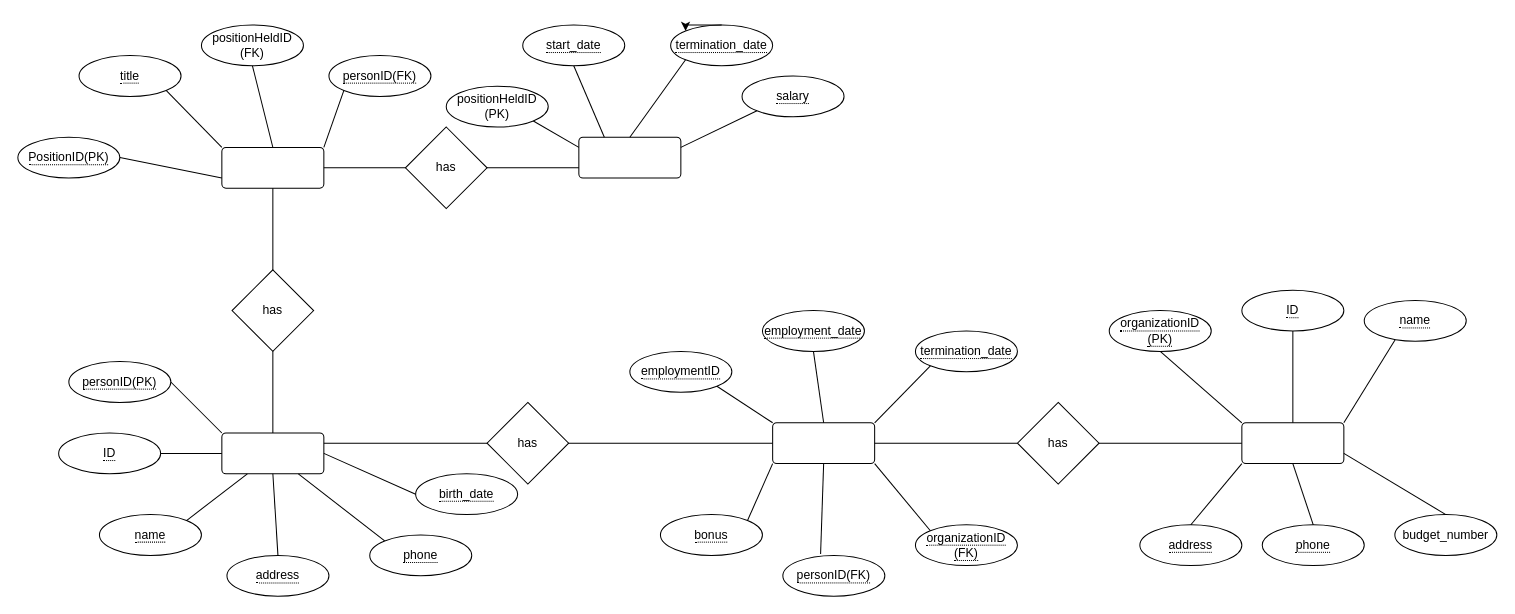
The diagram is 1515 pixels wide and 614 high, and some of its shapes have lost their labels. The shapes that lost their labels are listed below. From the top down, each one's centre as x and y in pixels, then its label:
At pixel 272 167: "Position".
At pixel 629 157: "Position_held".
At pixel 272 453: "Persons".
At pixel 823 443: "Employment".
At pixel 1292 443: "Oganization".
